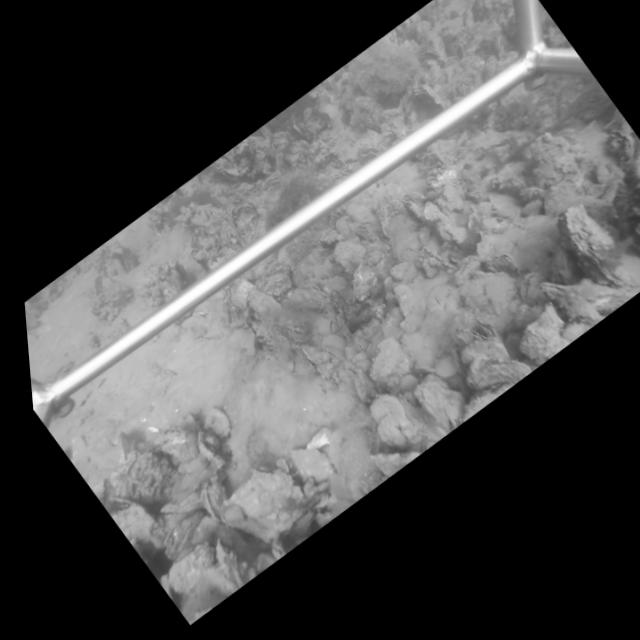Oyster-Closed: (561, 200, 640, 289), (225, 467, 306, 521), (538, 278, 626, 323), (471, 357, 533, 391), (392, 282, 428, 334), (288, 282, 335, 312), (201, 401, 233, 441), (419, 243, 460, 273), (201, 481, 225, 526), (409, 83, 450, 109), (454, 325, 499, 346), (228, 278, 254, 312), (300, 342, 328, 370), (397, 197, 424, 223), (473, 315, 500, 336)
Oyster-Indeterminate: (369, 393, 436, 449), (412, 371, 465, 430), (367, 333, 415, 383), (286, 444, 339, 487), (250, 288, 285, 317)
Oyster-Open: (608, 128, 639, 164)
